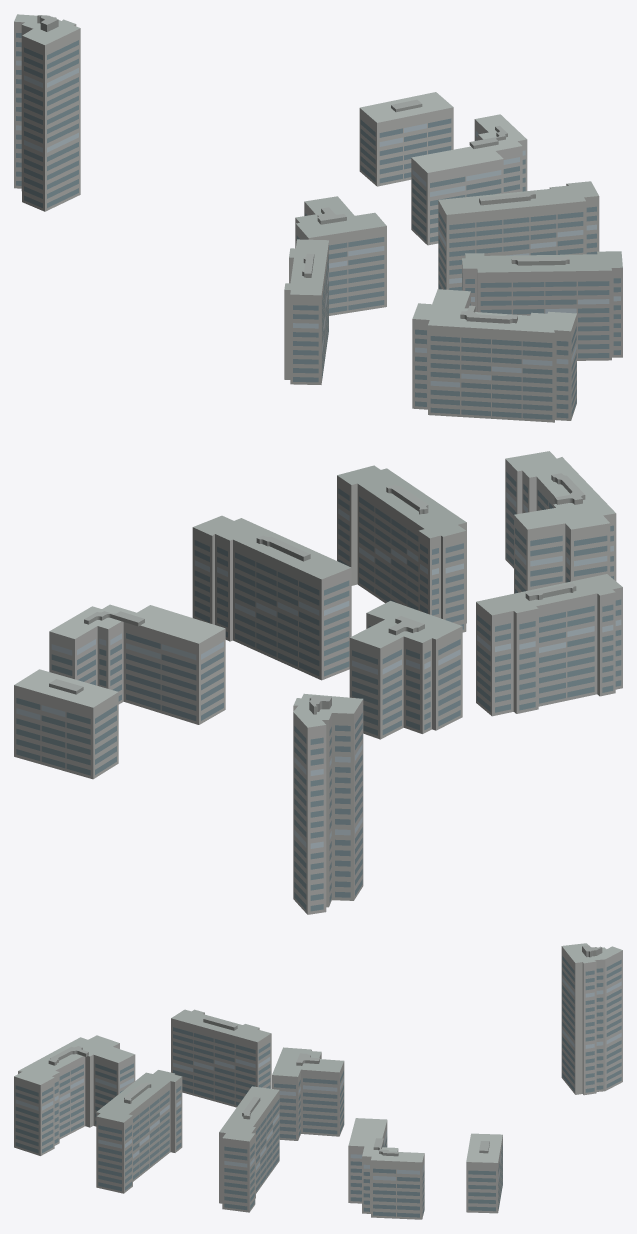
Rendered from apt-a13876111.glb.
The picture shows the model from 3 angles, top to bottom: view 1: azimuth 30°, elevation 25°; view 2: azimuth 150°, elevation 25°; view 3: azimuth 270°, elevation 25°; orthographic projection. The views are drawn at different scales.
Parts seen in each view (by area): view 1: apt-a13876111; view 2: apt-a13876111; view 3: apt-a13876111.
Part boxes in pixels (left/top/right/bottom): apt-a13876111: left=14, top=14, right=622, bottom=422; apt-a13876111: left=14, top=451, right=622, bottom=914; apt-a13876111: left=14, top=943, right=622, bottom=1219.
Bounding box in the file's own units: 129 × 57.3 × 230.
